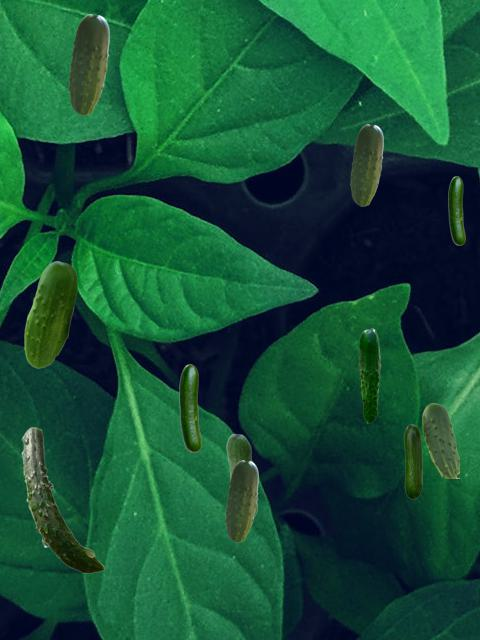cucumber: (21, 427, 103, 572), (24, 261, 76, 367), (68, 14, 108, 114), (422, 403, 458, 477), (226, 433, 257, 517), (350, 124, 382, 205), (225, 460, 257, 541), (358, 328, 380, 422), (179, 364, 200, 451), (404, 424, 421, 498), (448, 176, 464, 244)
